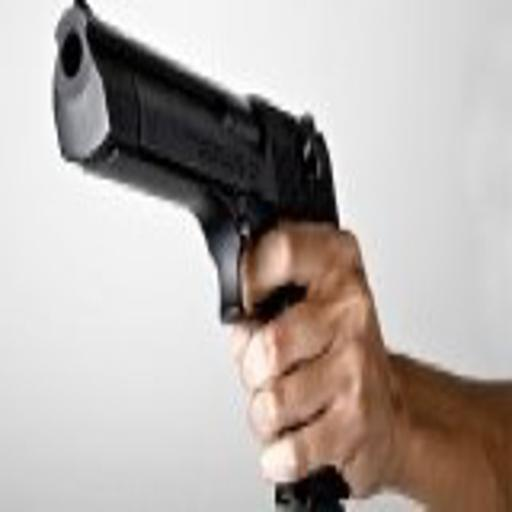Handgun: (40, 3, 360, 511)
